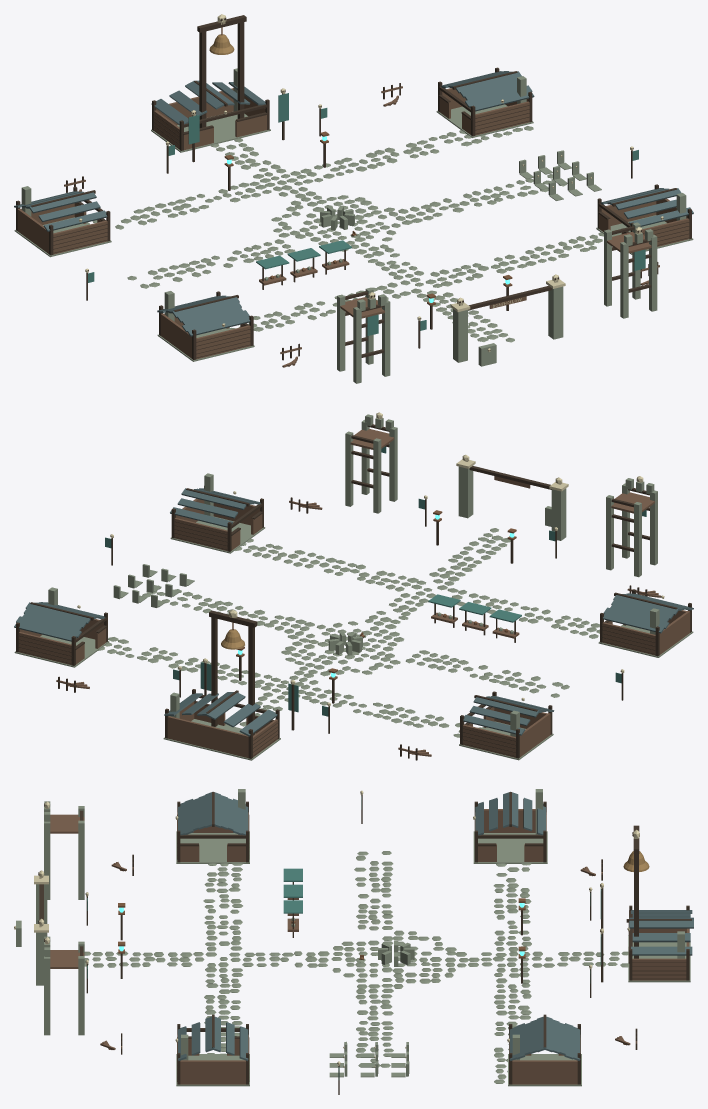
File: bonehollow.glb
3 views of the same model, one above another, from view 1: azimuth 30°, elevation 25°; view 2: azimuth 150°, elevation 25°; view 3: azimuth 270°, elevation 25° (orthographic). The views are drawn at different scales.
Parts seen in each view (by area): view 1: Road, BellHall, CedarHouse, CryptHouse, Apothecary, WatchHouse, WestWatchtower, EastWatchtower, Gate, BellTower, Market, Graves (+5 smaller); view 2: Road, BellHall, CryptHouse, WatchHouse, CedarHouse, Apothecary, EastWatchtower, WestWatchtower, Gate, BellTower, Market, Graves (+5 smaller); view 3: Road, CedarHouse, Apothecary, CryptHouse, BellHall, WatchHouse, EastWatchtower, WestWatchtower, Gate, Graves, Market, Well (+3 smaller).
Part boxes in pixels (x1,y1,x2,y2): Road: (86,126,603,342); BellHall: (151,68,270,152); CedarHouse: (157,291,254,361); CryptHouse: (436,67,534,137); Apothecary: (14,186,111,257); WatchHouse: (596,184,693,254); WestWatchtower: (337,287,390,383); EastWatchtower: (604,222,657,318); Gate: (450,274,565,362); BellTower: (197,14,246,127); Market: (256,240,351,289); Graves: (519,150,601,200); Road: (98,528,599,737); BellHall: (163,689,280,760); CryptHouse: (14,587,109,667); WatchHouse: (170,473,265,553); CedarHouse: (598,589,693,657); Apothecary: (459,691,554,760); EastWatchtower: (345,412,397,513); WestWatchtower: (606,476,657,577); Gate: (456,454,568,540); BellTower: (209,609,257,735); Market: (428,594,521,642); Graves: (113,564,194,607); Road: (84,851,628,1083); CedarHouse: (175,789,249,863); Apothecary: (473,789,547,863); CryptHouse: (507,1014,581,1086); BellHall: (626,905,693,982); WatchHouse: (175,1014,249,1086); EastWatchtower: (44,936,84,1035); WestWatchtower: (44,801,84,899); Gate: (34,870,48,985); Graves: (329,1041,409,1077); Market: (283,868,302,937); Well: (378,941,414,966).
Bounding box in the file's own units: 56.94 × 12.6 × 59.44.
